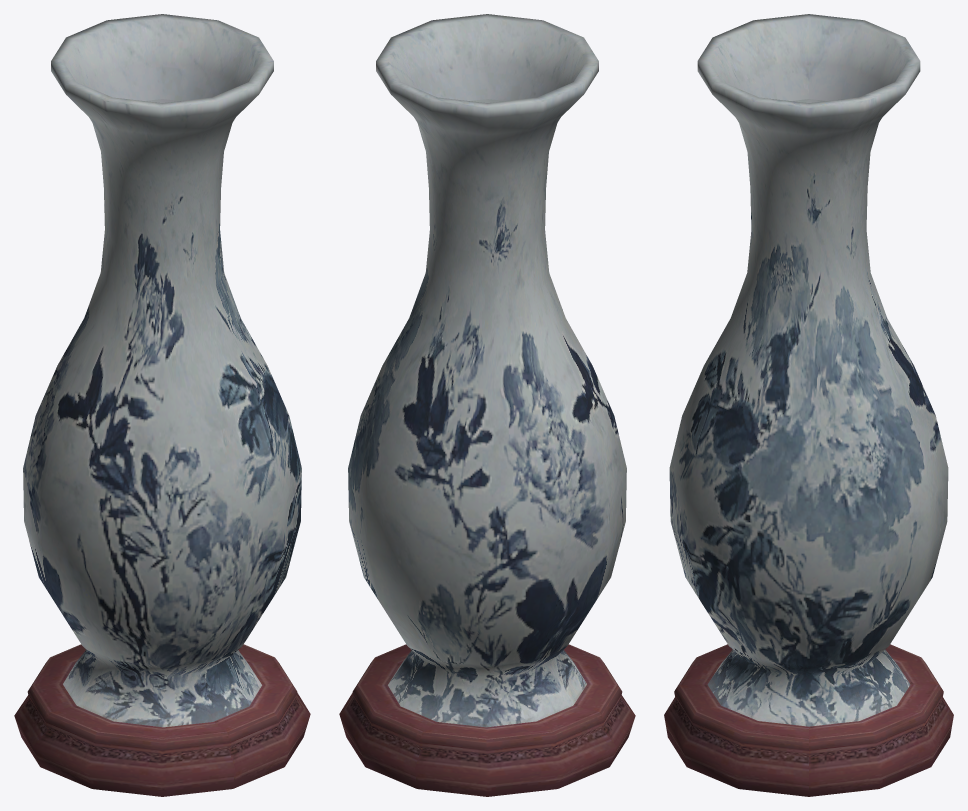
Rendered from wujian_yunmeng_03.FBX.
3 views of the same model, side by side, from view 1: azimuth 30°, elevation 25°; view 2: azimuth 150°, elevation 25°; view 3: azimuth 270°, elevation 25° (orthographic).
Visible parts, largest first — view 1: Mesh_0092; view 2: Mesh_0092; view 3: Mesh_0092.
Part boxes in pixels (x1=…): Mesh_0092: x1=14, y1=14, x2=310, y2=796; Mesh_0092: x1=339, y1=14, x2=635, y2=796; Mesh_0092: x1=664, y1=14, x2=953, y2=796.
Bounding box in the file's own units: 207 × 517 × 201.
